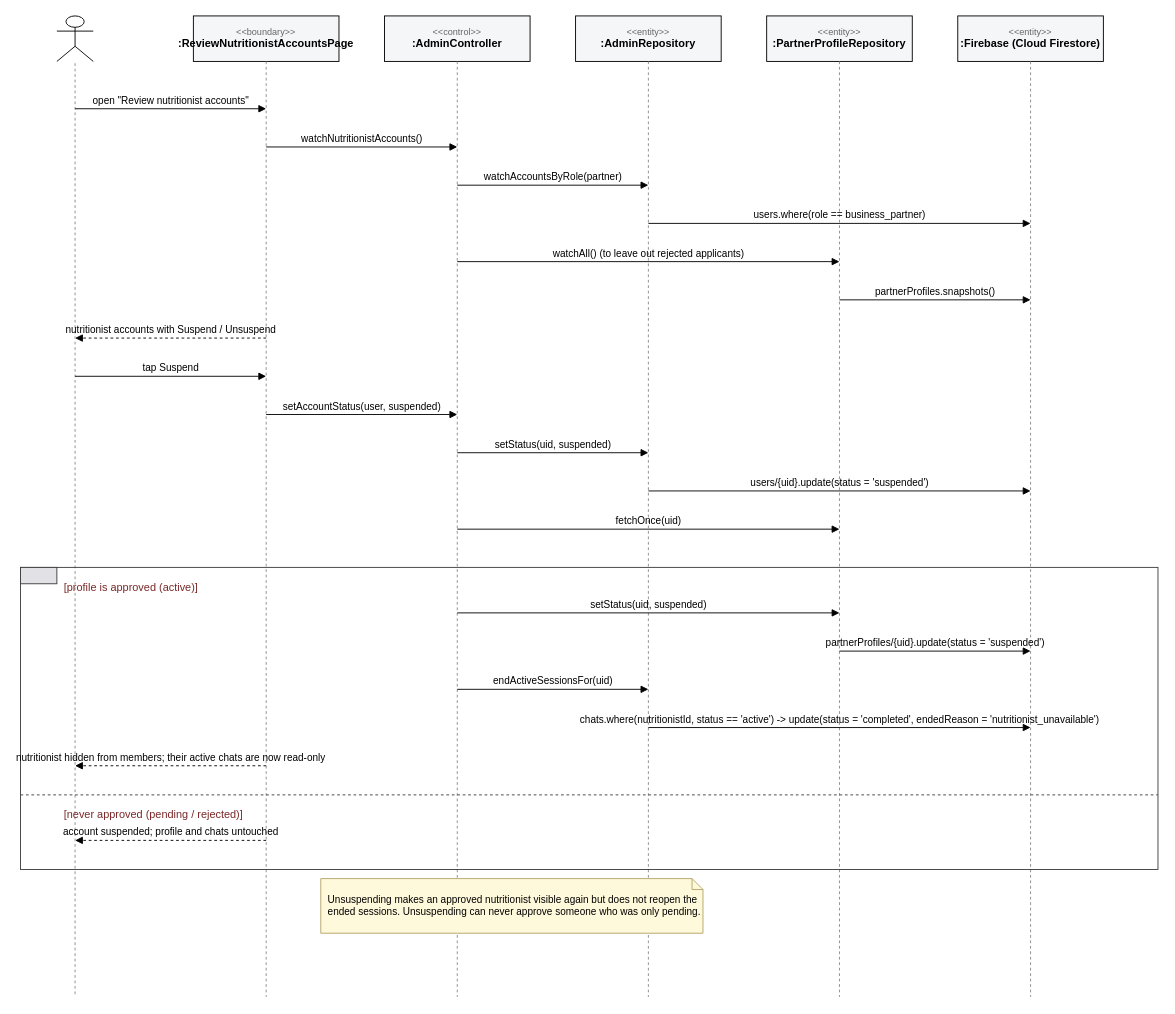
This 1175x1014 diagram has some shape labels left out. The shapes that lost their labels are listed below. From the top down, each one's box as (x1, y1, x2, y2) in pixels, then its label:
(56, 15, 93, 61): Admin
(20, 566, 57, 584): alt
